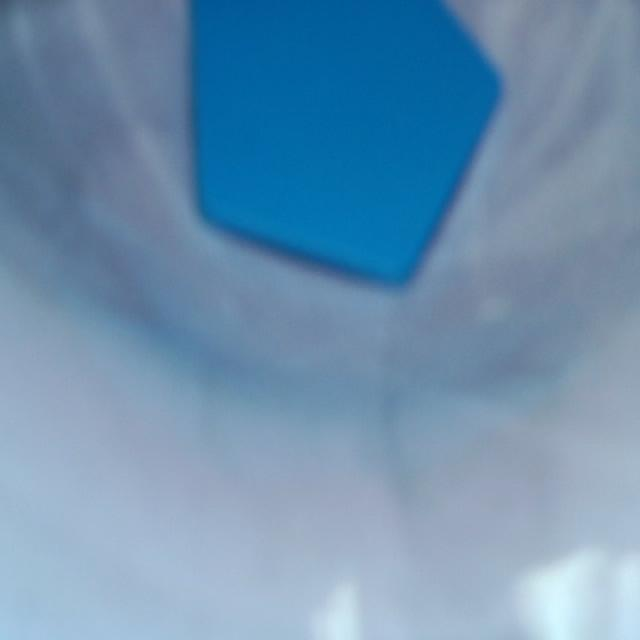pentagon: (192, 0, 500, 284)
